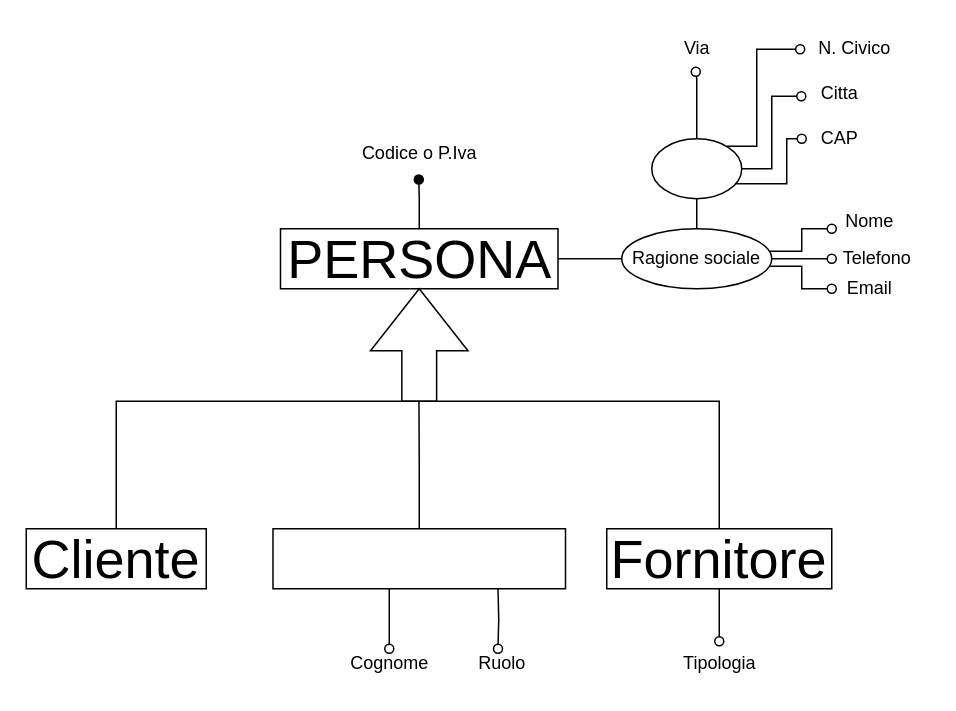
Image size: 956x711. Some labels were removed from this diagram. The centre of each missing label's shape, as x and y in pixels:
Dipendente: point (419, 558)
Indirizzo: point (696, 168)
